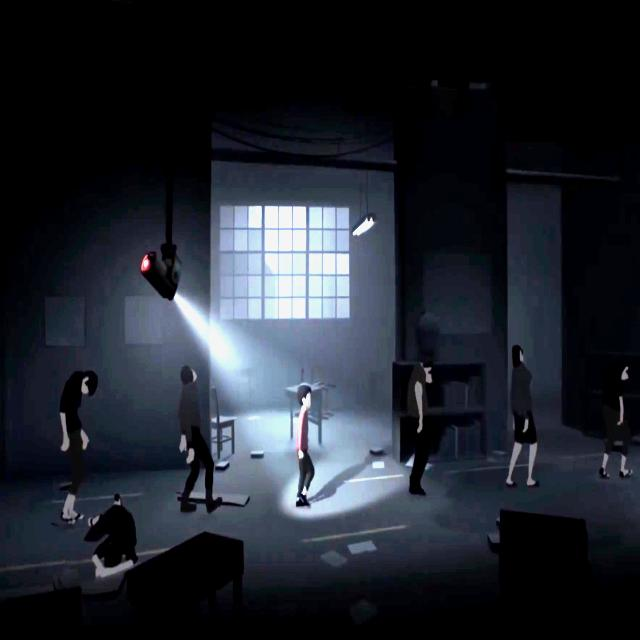boy: (294, 383, 316, 510)
zombie: (59, 366, 98, 524), (74, 493, 140, 576), (178, 365, 214, 513), (506, 344, 540, 490), (406, 360, 438, 498), (600, 360, 633, 481)
